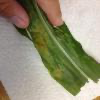Corn rust leaf: (30, 24, 99, 99)
